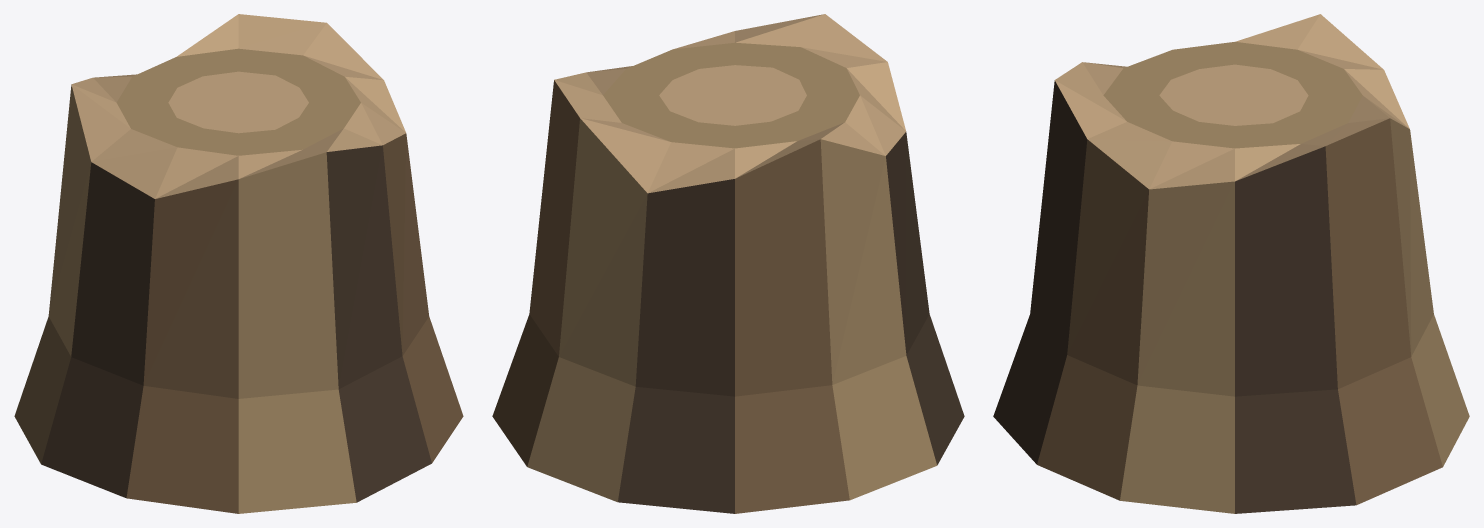
File: TW_STUMP_BROKEN_A_LOD0.glb
3 renders of one model, left to right at view 1: azimuth 30°, elevation 25°; view 2: azimuth 150°, elevation 25°; view 3: azimuth 270°, elevation 25°, orthographic. The views are drawn at different scales.
Parts seen in each view (by area): view 1: TW_STUMP_BROKEN_A_LOD0; view 2: TW_STUMP_BROKEN_A_LOD0; view 3: TW_STUMP_BROKEN_A_LOD0.
Boxes of the visible parts, x1,y1,x2,y2 form: TW_STUMP_BROKEN_A_LOD0: [14, 14, 463, 513]; TW_STUMP_BROKEN_A_LOD0: [492, 14, 964, 513]; TW_STUMP_BROKEN_A_LOD0: [993, 14, 1469, 513].
Bounding box in the file's own units: 1.01 × 0.82 × 1.04.
Materials: 1 (1 with a texture image).
